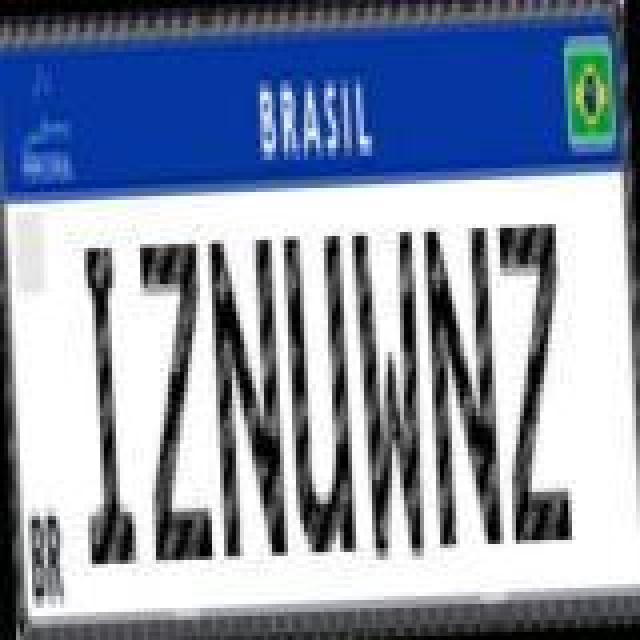I: (70, 242, 138, 574)
N: (206, 234, 290, 566), (422, 218, 506, 550)
U: (282, 226, 358, 558)
W: (352, 222, 432, 562)
Z: (136, 234, 216, 566), (498, 218, 574, 550)
